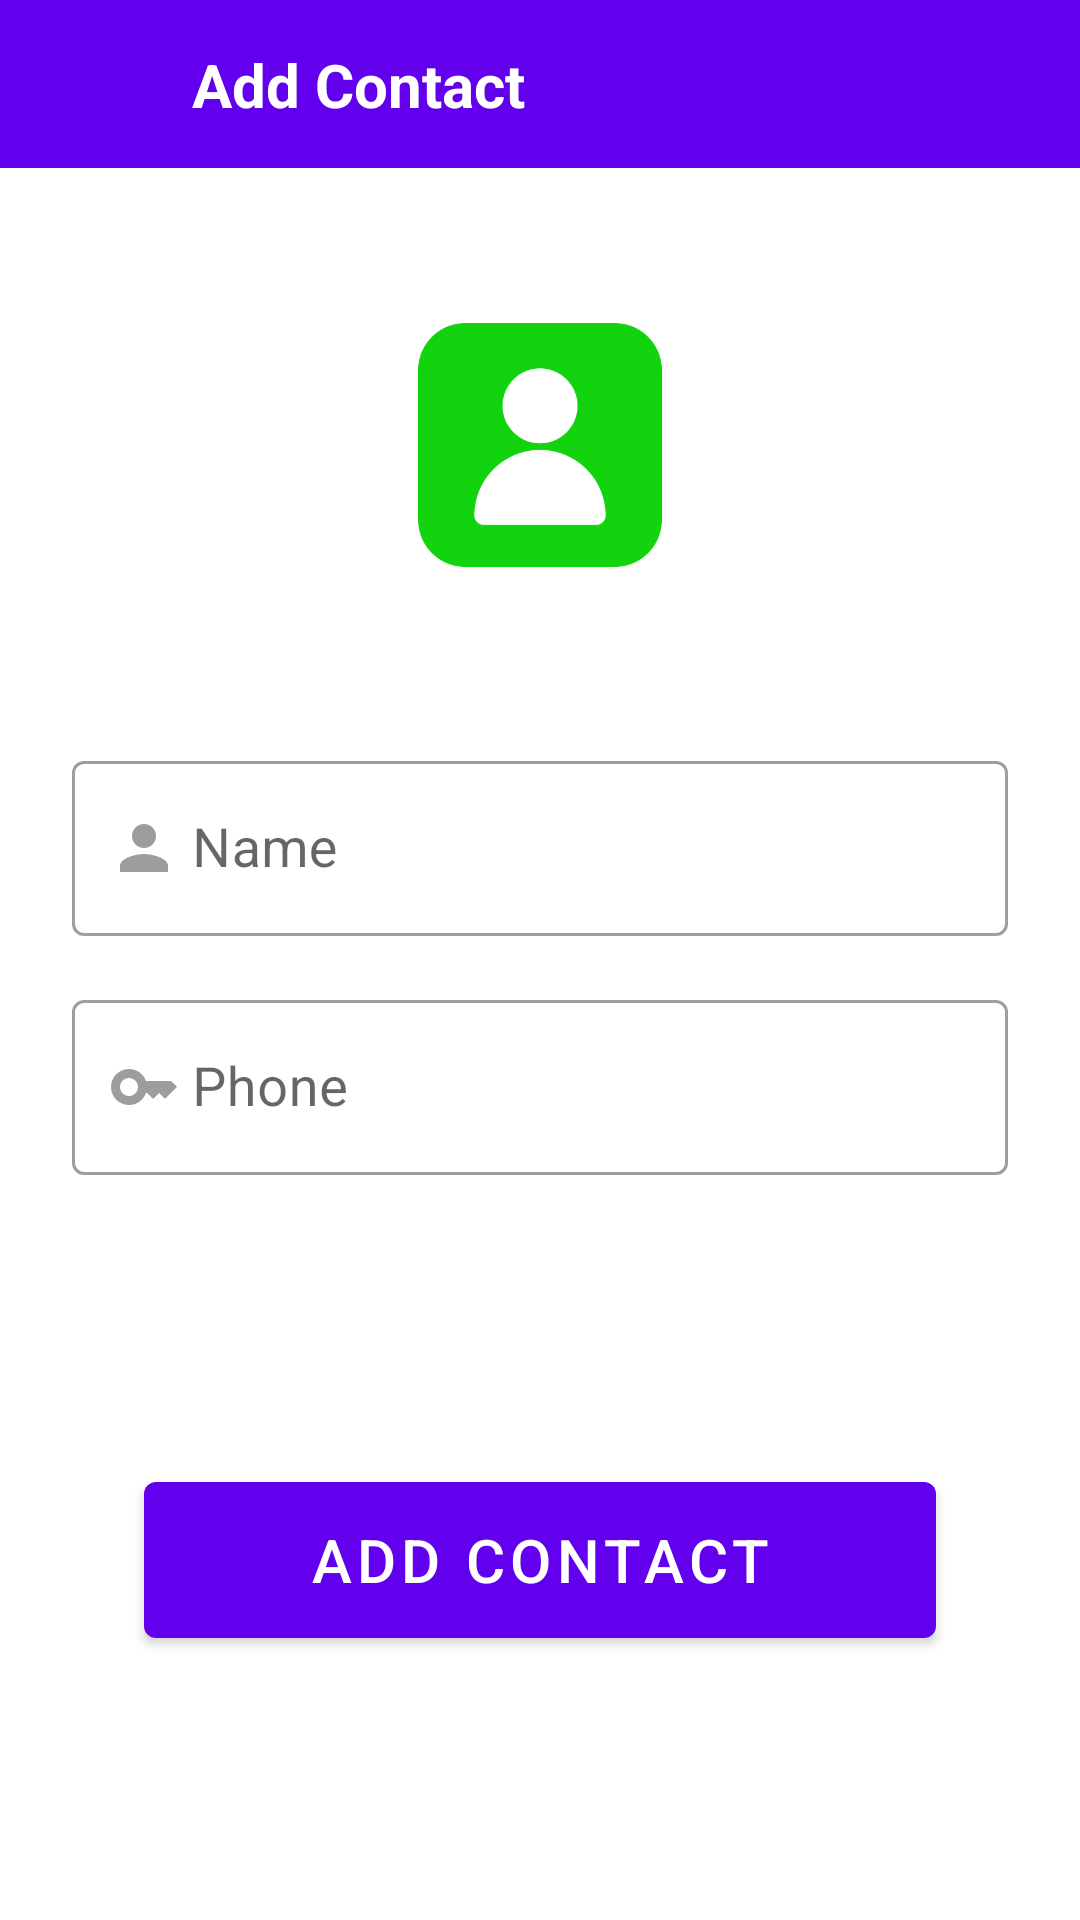

Locate icon controls on the screen. Image size 1080px×1920px, boxes as (x1, y1, x2, y2).
contact: (418, 323, 662, 567)
